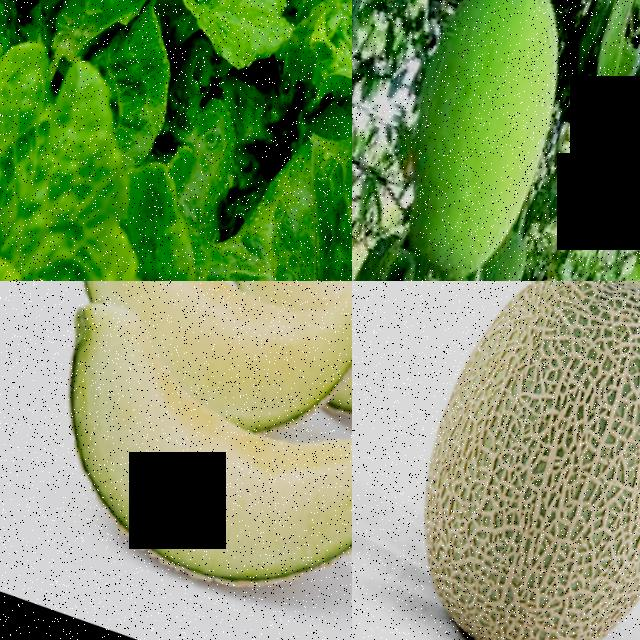lettuce: (0, 0, 245, 281), (0, 0, 331, 96), (240, 0, 352, 175)
mango: (352, 0, 614, 281)
melon: (0, 281, 352, 640), (352, 281, 640, 640), (0, 281, 352, 460)
